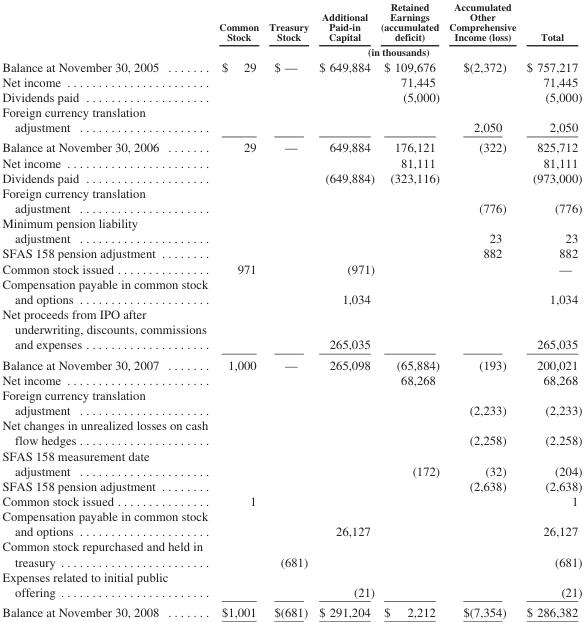table: (1, 0, 581, 618)
table column: (1, 0, 212, 618), (443, 0, 520, 618), (376, 0, 443, 618), (313, 0, 376, 618), (520, 0, 581, 618), (212, 0, 263, 618), (263, 0, 313, 618)
table column header: (1, 0, 581, 58)
table row: (1, 306, 581, 354), (1, 0, 581, 44), (1, 104, 581, 137), (1, 568, 581, 601), (1, 275, 581, 306), (1, 185, 581, 215), (1, 215, 581, 245), (1, 387, 581, 417), (1, 417, 581, 447), (1, 447, 581, 477), (1, 508, 581, 538), (1, 538, 581, 568), (1, 137, 581, 154), (1, 354, 581, 371), (1, 601, 581, 618), (1, 73, 581, 89), (1, 169, 581, 185), (1, 371, 581, 387), (1, 477, 581, 493), (1, 58, 581, 73), (1, 89, 581, 104), (1, 154, 581, 169), (1, 245, 581, 260), (1, 260, 581, 275), (1, 493, 581, 508), (1, 44, 581, 58)
table spanning cell: (212, 44, 581, 58)
